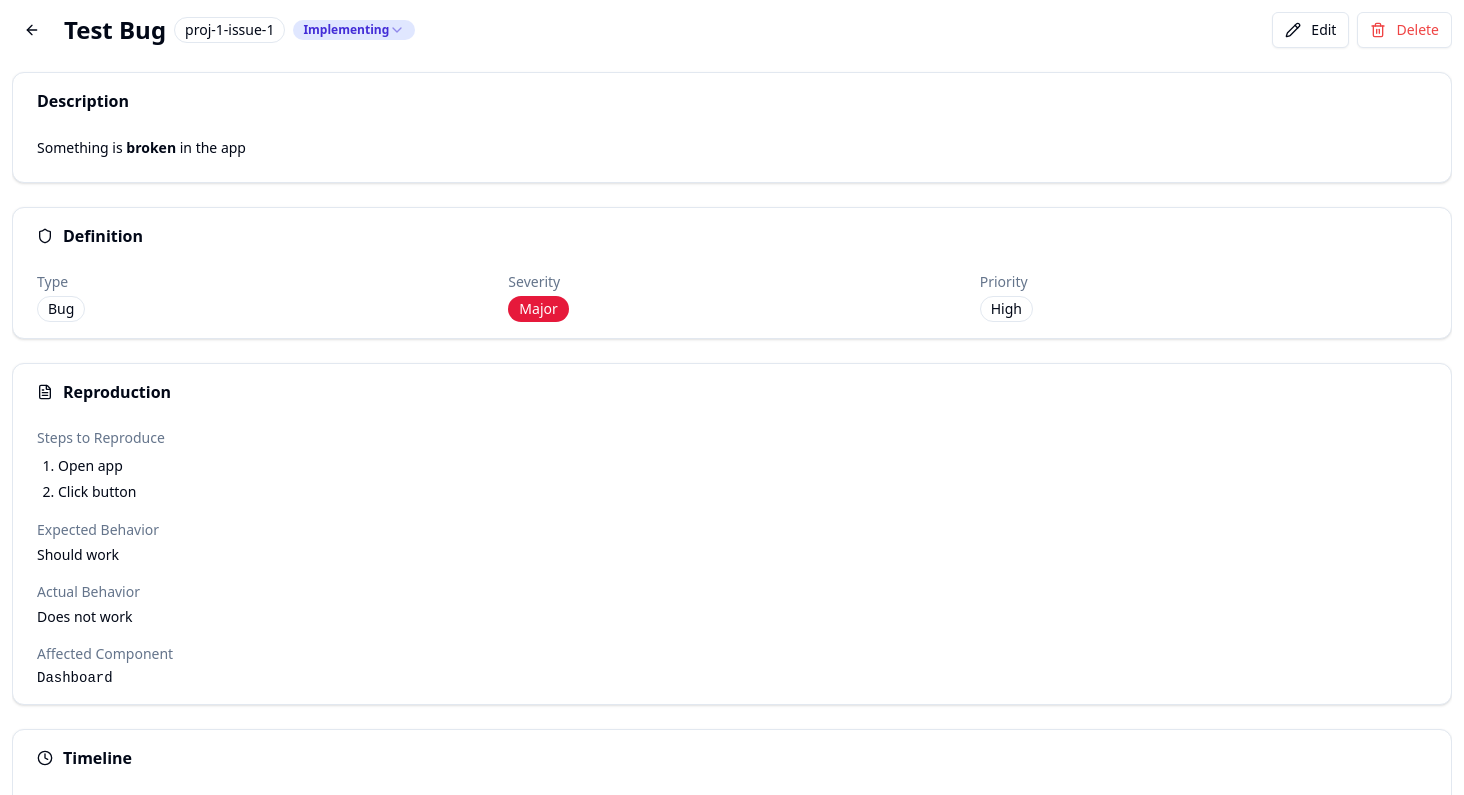
it: IssueDetailPage › cancel restores read-only mode
Expected: the heading "Test Bug" is shown, [64,14,166,46]
Step 1. Click the button "Edit" → (1311, 30), box [1272,12,1350,48]
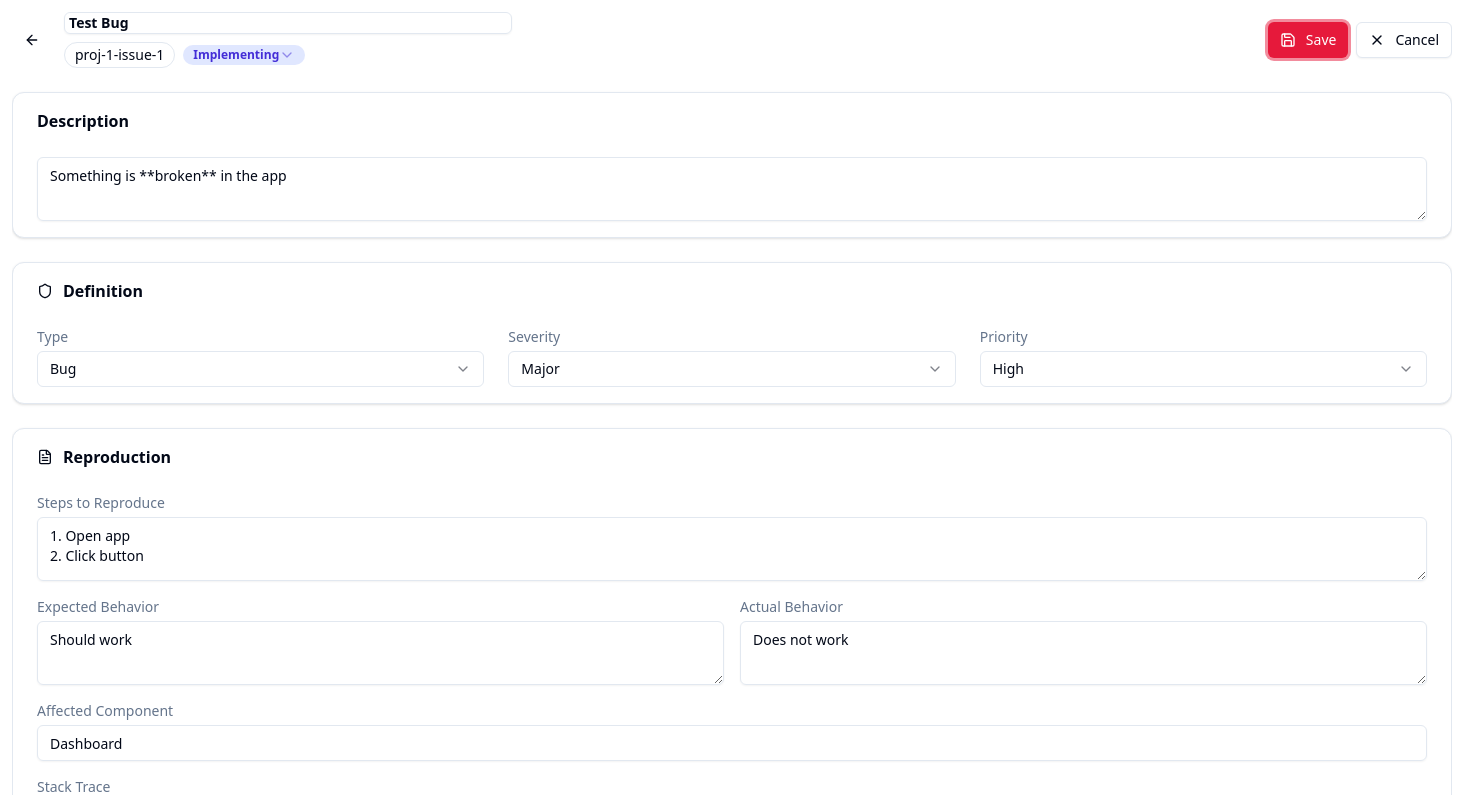
Now the button "Cancel" is shown
Step 2. Click the button "Cancel" → (1404, 40), box [1356,22,1452,58]
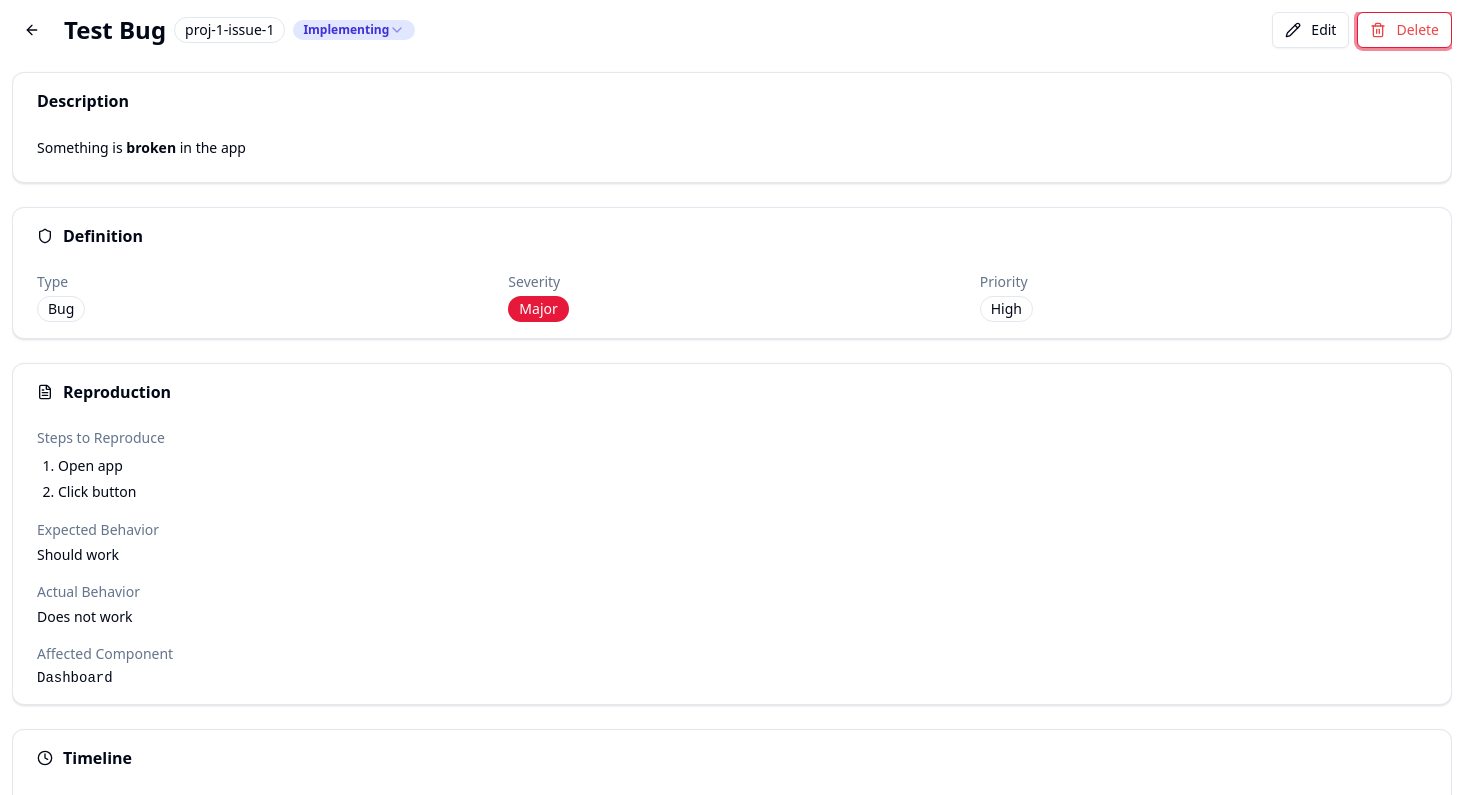
Now the button "Edit" is shown, box [1272,12,1350,48]
Now the button "Save" is gone
